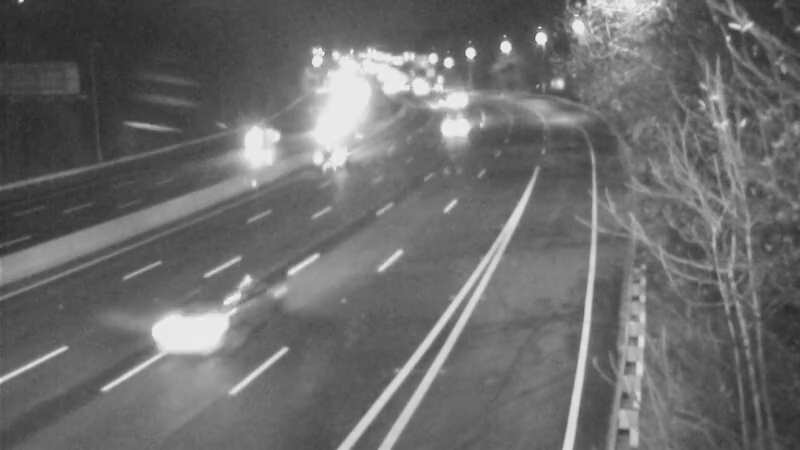vehicle: (133, 280, 243, 390), (291, 118, 371, 198), (390, 67, 440, 117), (428, 71, 478, 121), (412, 79, 462, 129), (423, 100, 473, 150), (224, 117, 274, 167)
